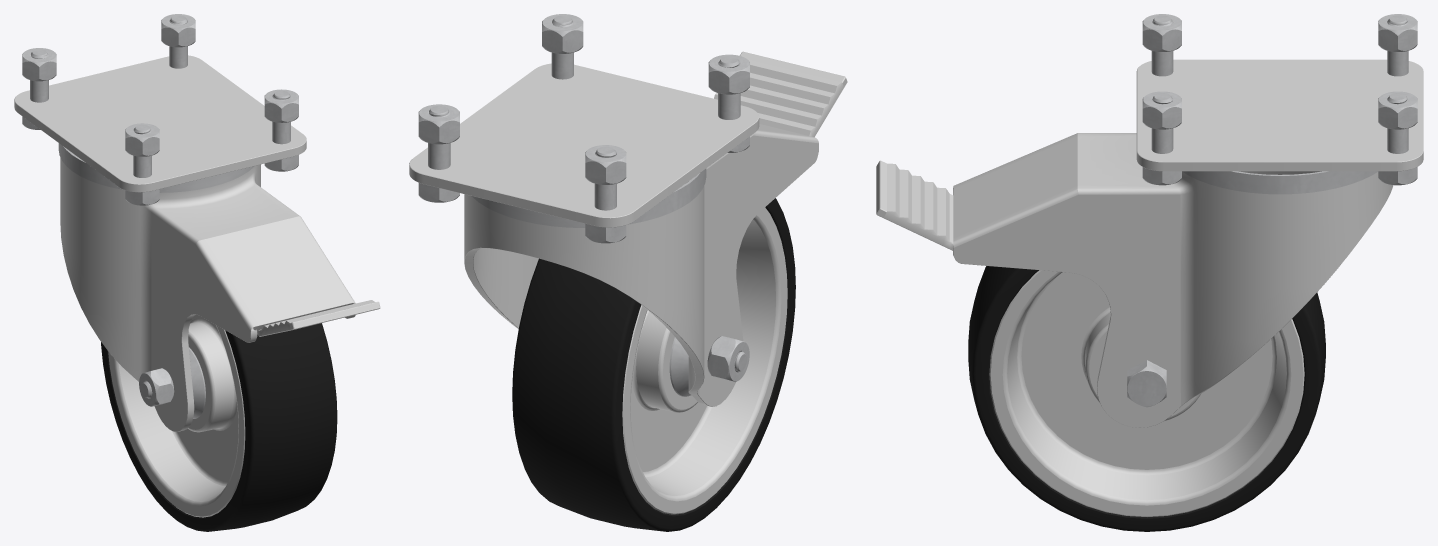
The model's file is heavy_duty_wheel.glb.
The picture shows the model from 3 angles, left to right: view 1: azimuth 30°, elevation 25°; view 2: azimuth 150°, elevation 25°; view 3: azimuth 270°, elevation 25°; orthographic projection. The views are drawn at different scales.
Parts seen in each view (by area): view 1: heavy_duty_wheel; view 2: heavy_duty_wheel; view 3: heavy_duty_wheel.
Boxes of the visible parts, x1,y1,x2,y2 form: heavy_duty_wheel: [14, 14, 380, 531]; heavy_duty_wheel: [409, 14, 847, 531]; heavy_duty_wheel: [876, 14, 1423, 531].
Size of the model in its own units: 0.0849 by 0.1754 by 0.1911.
3 materials, 1 textured.
